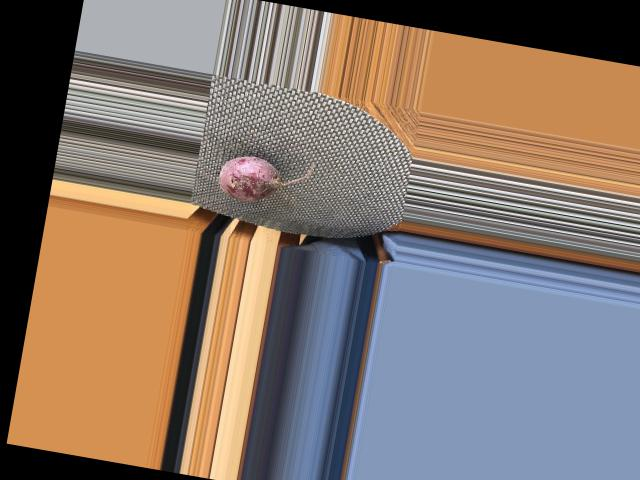beet: (216, 146, 315, 212)
